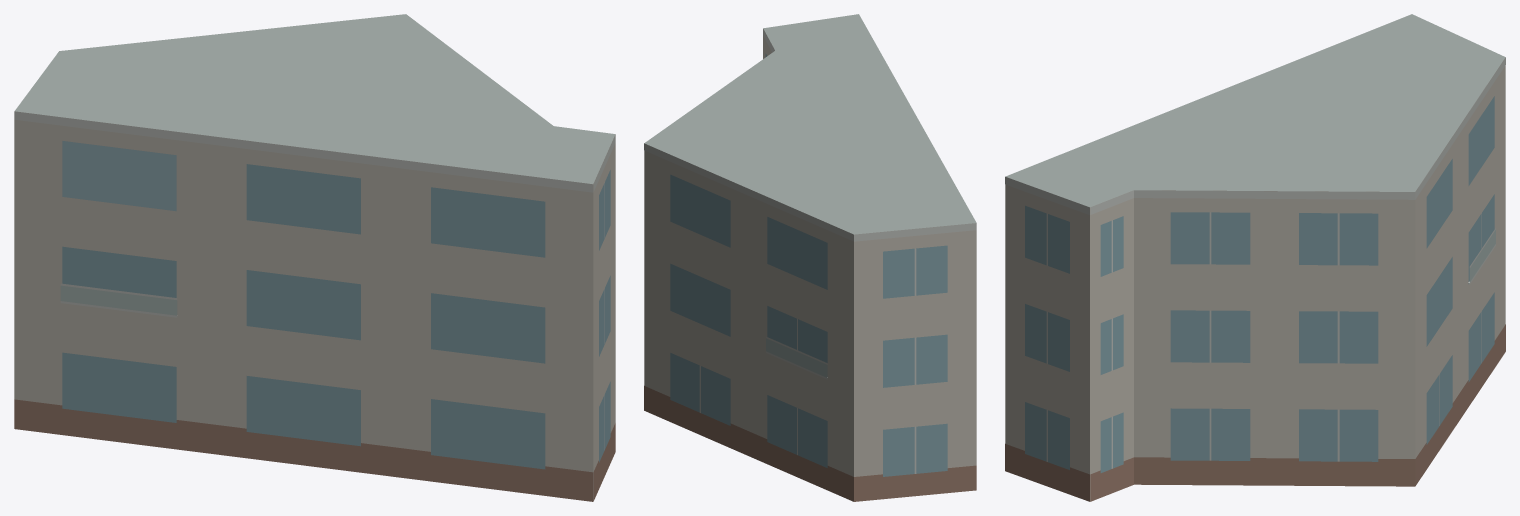
File: survey-upis-32498558.glb
The picture shows the model from 3 angles, left to right: view 1: azimuth 30°, elevation 25°; view 2: azimuth 150°, elevation 25°; view 3: azimuth 270°, elevation 25°; orthographic projection. The views are drawn at different scales.
Visible parts, largest first — view 1: survey-upis-32498558.tmp; view 2: survey-upis-32498558.tmp; view 3: survey-upis-32498558.tmp.
Boxes of the visible parts, <box> form: survey-upis-32498558.tmp: <box>14,14,615,501</box>; survey-upis-32498558.tmp: <box>644,14,976,501</box>; survey-upis-32498558.tmp: <box>1005,14,1505,501</box>.
Bounding box in the file's own units: 12.9 × 9.15 × 14.11.
